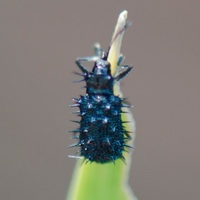insect: (73, 10, 132, 162)
